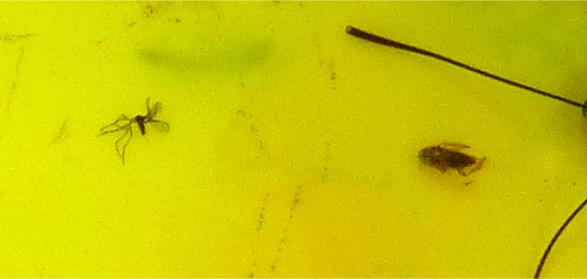Hemiptera: (414, 140, 487, 179)
Nematocera: (100, 100, 170, 138)
